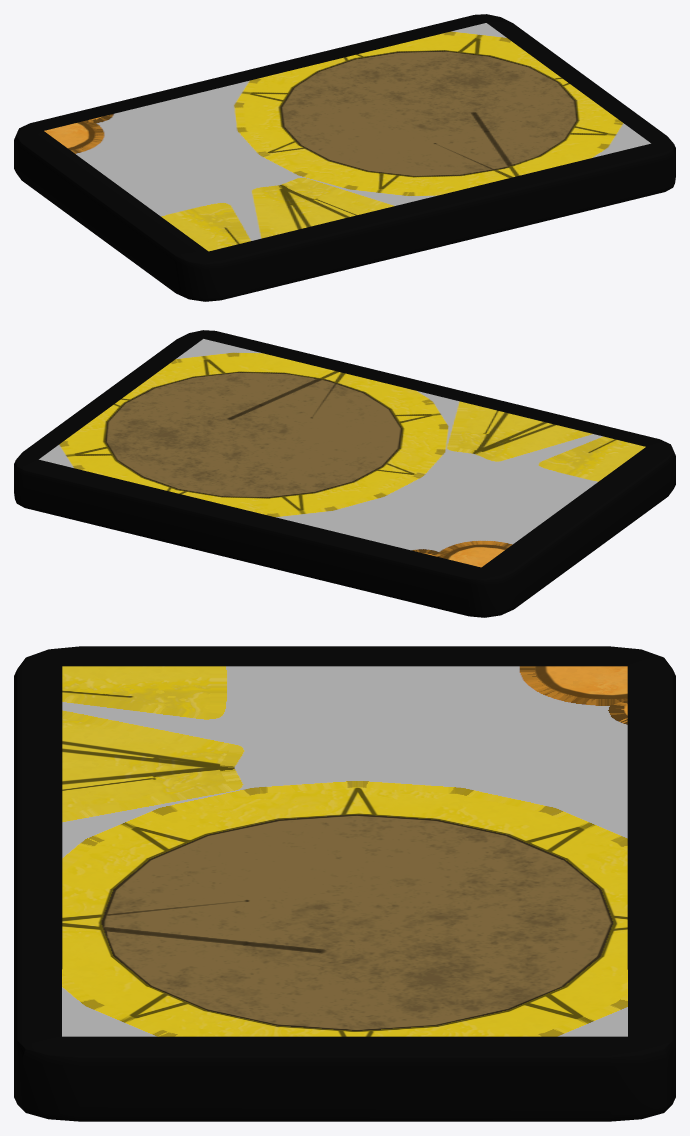
Rendered from SM_GroundRounded_1.fbx.
3 renders of one model, top to bottom at view 1: azimuth 30°, elevation 25°; view 2: azimuth 150°, elevation 25°; view 3: azimuth 270°, elevation 25°, orthographic. The views are drawn at different scales.
Visible parts, largest first — view 1: pCube1; view 2: pCube1; view 3: pCube1.
Boxes of the visible parts, x1=… form: pCube1: x1=14, y1=14, x2=675, y2=301; pCube1: x1=14, y1=330, x2=675, y2=617; pCube1: x1=14, y1=646, x2=675, y2=1121.
Bounding box in the file's own units: 83 × 6.55 × 56.06.
2 materials, 1 textured.
